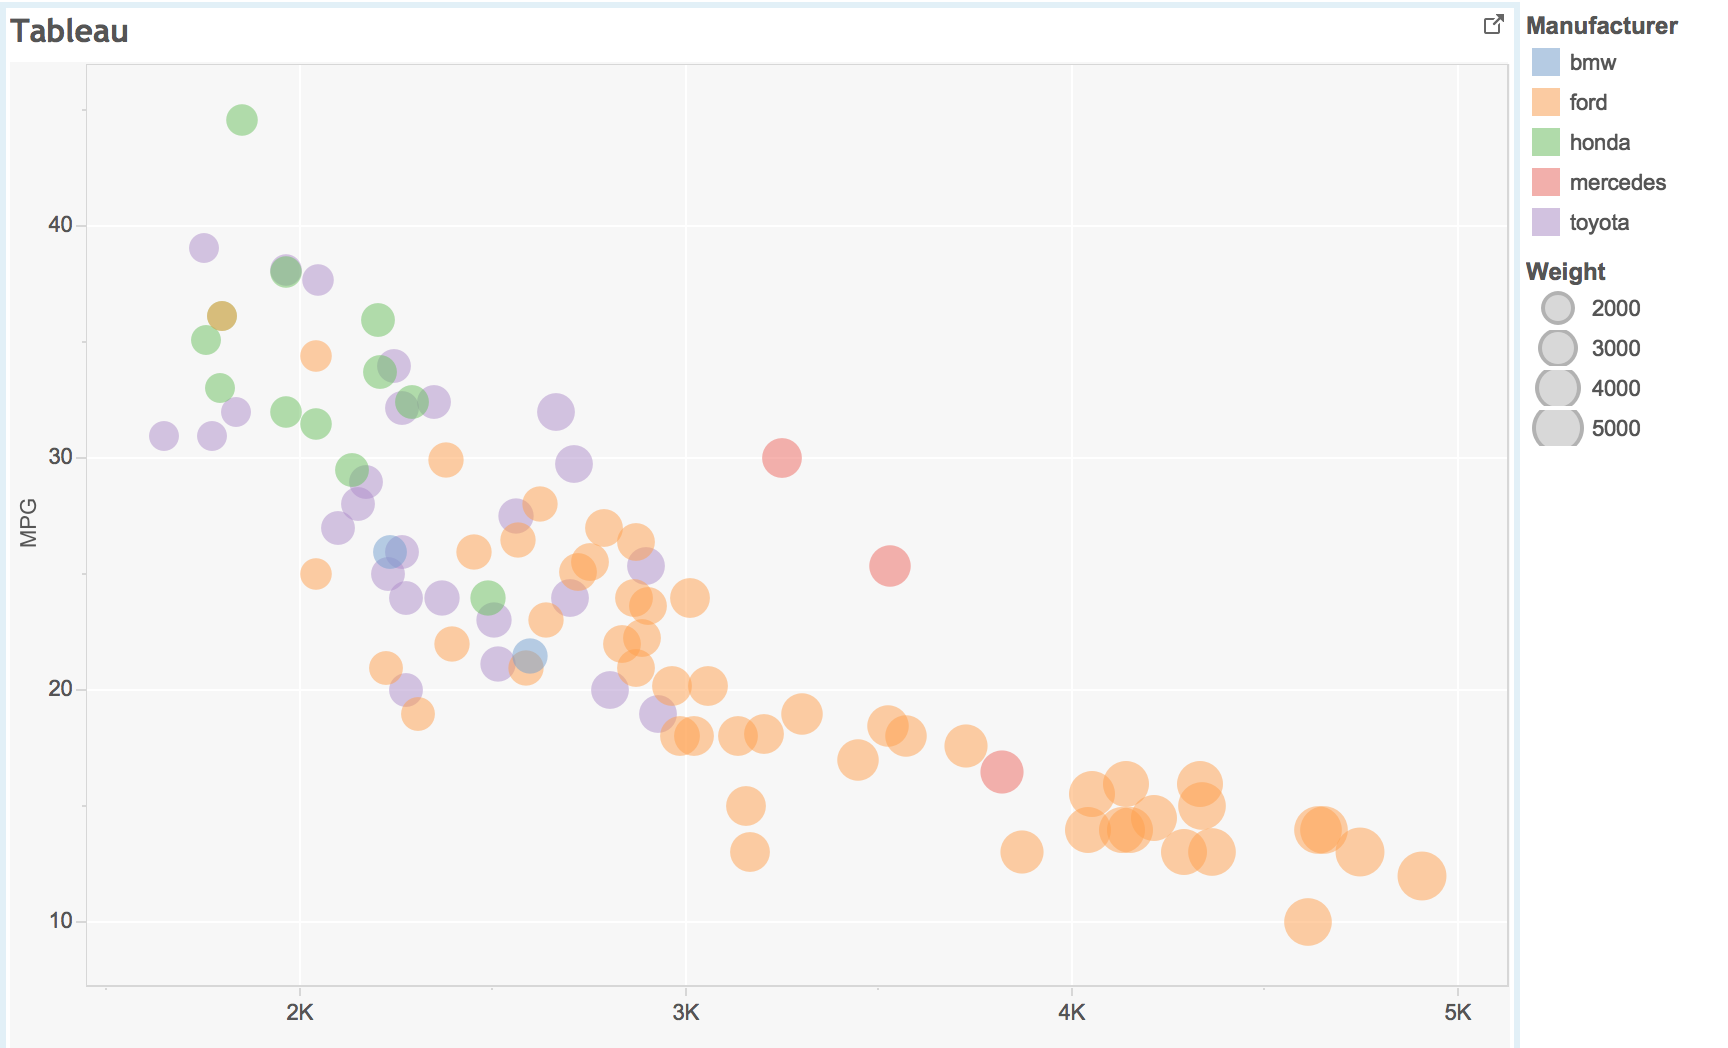

The dashboard page shown, as its layout file describes it:
{"tool":"tableau","page":{"name":"Dashboard 1","canvas":[1000,800],"ordinal":0},"visuals":[{"type":"worksheet","title":"Sheet 1","mark":"Circle","rows":["MPG"],"cols":["Weight"],"box":[0,0,840,800]},{"type":"legend","title":"Sheet 1","param":"[textscan.14h8h6g1ua10101g5851s1sy8clt].[none:Manufacturer:nk]","box":[840,0,160,134]},{"type":"legend","title":"Sheet 1","param":"[textscan.14h8h6g1ua10101g5851s1sy8clt].[none:Weight:qk]","box":[840,134,160,110]}]}

Visuals, with their boxes on the page's 1000x800 design canvas (x1, y1, x2, y2). These are canvas units, not pixel positions in the 1728x1048 screenshot, which may show the page scaled, cropped or inside an application window:
"Sheet 1" worksheet (Circle marks): locate(0, 0, 840, 800)
"Sheet 1" legend: locate(840, 0, 1000, 134)
"Sheet 1" legend: locate(840, 134, 1000, 244)
